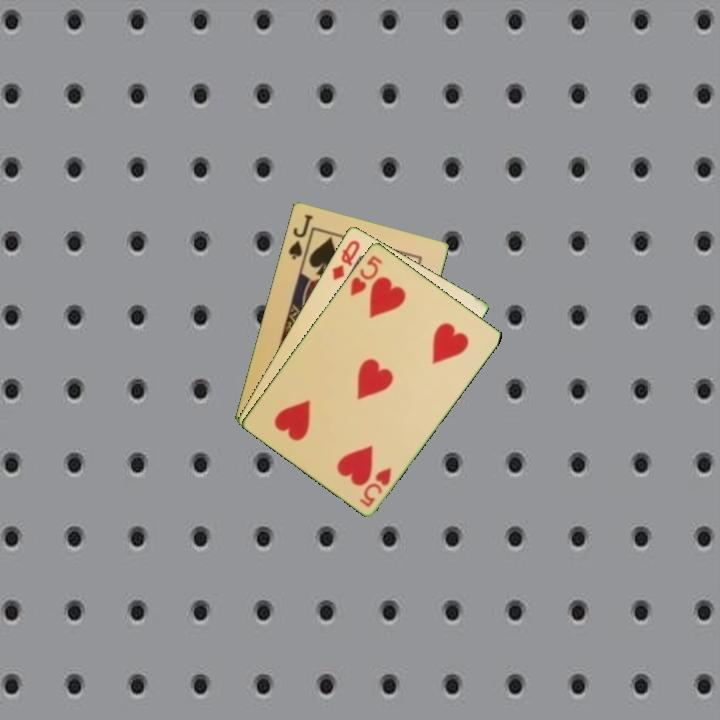5h: (346, 251, 385, 299), (356, 463, 394, 510)
Js: (285, 210, 316, 262)
Qd: (328, 236, 363, 283)
